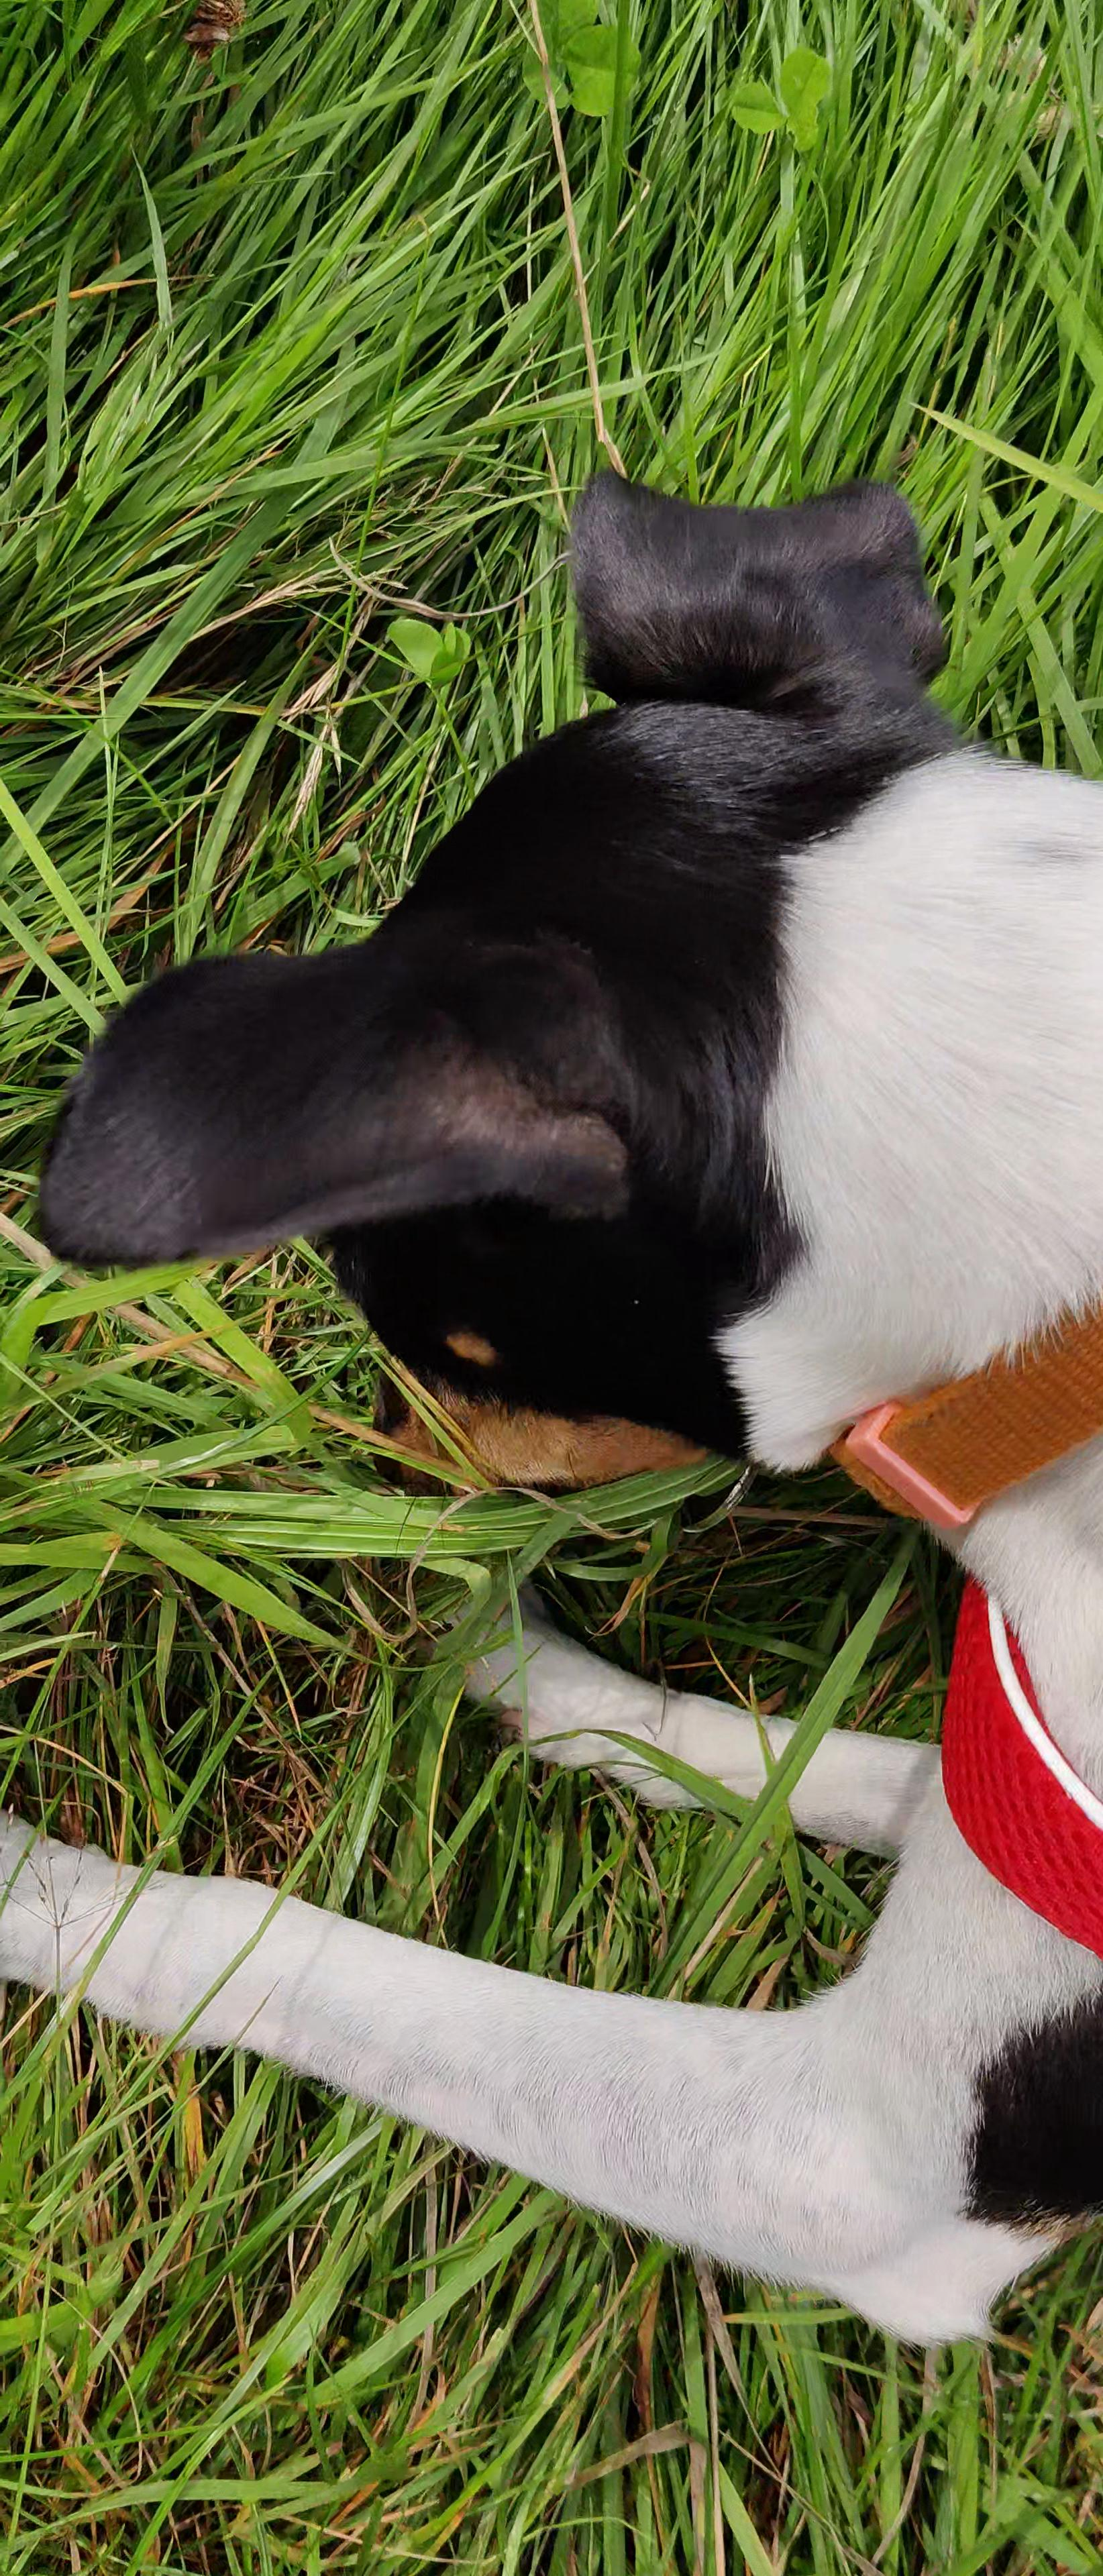Dog: (0, 452, 1103, 2349)
